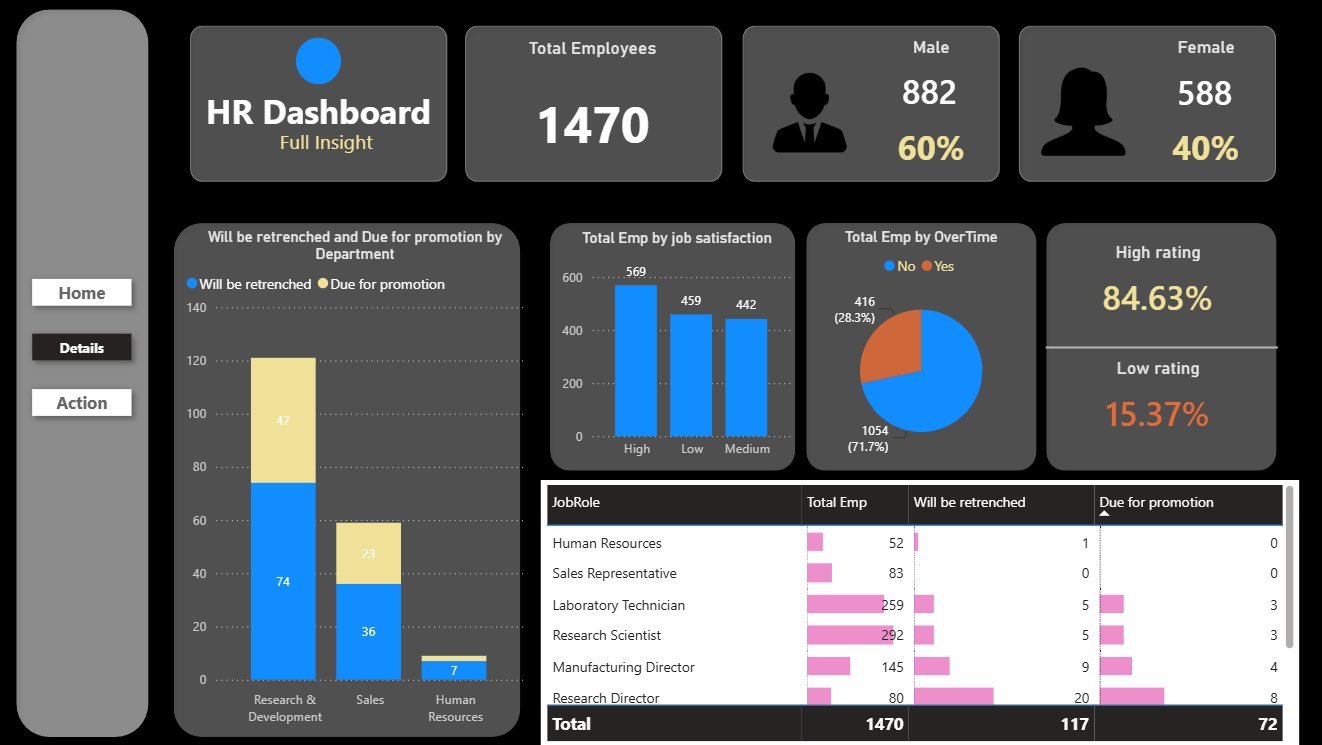

What the dashboard file says about the page in this screenshot:
{"tool":"powerbi","page":{"name":"Details","canvas":[1280,720],"ordinal":1},"visuals":[{"type":"shape","box":[9.6,0,145.5,720.4],"z":0,"group":"g1"},{"type":"shape","box":[177,15.1,266.2,168.8],"z":0},{"type":"textbox","box":[188,81,244.3,56.3],"z":1000},{"type":"shape","box":[443.2,15.1,266.2,168.8],"z":2000},{"type":"shape","box":[710.8,15.1,266.2,168.8],"z":3000},{"type":"shape","box":[977,15.1,266.2,168.8],"z":4000},{"type":"shape","box":[288.2,35.7,43.9,45.3],"z":5000},{"type":"textbox","box":[238.8,119.4,157.8,37],"z":6000},{"type":"cardVisual","title":"Total Employees","fields":{"Data":["new measures.Total Emp"]},"box":[458.4,36.2,232.8,126.7],"z":7000},{"type":"cardVisual","title":"Male","fields":{"Data":["new measures.Male"]},"box":[844.5,35,114.6,84.5],"z":8000},{"type":"cardVisual","fields":{"Data":["new measures.% Male"]},"box":[844.5,108.6,114.6,63.9],"z":9000},{"type":"image","box":[745.6,66.4,77.2,84.5],"z":10000},{"type":"cardVisual","title":"Female","fields":{"Data":["new measures.Female"]},"box":[1109.9,35,114.6,85.7],"z":11000},{"type":"image","box":[1003.8,47.1,89.3,121.9],"z":12000},{"type":"cardVisual","fields":{"Data":["new measures.% Female"]},"box":[1099.1,108.6,135.1,63.9],"z":13000},{"type":"shape","box":[161.7,206.3,352.3,513.9],"z":14000},{"type":"columnChart","fields":{"Category":["HR Analytics Data.Department"],"Y":["new measures.Will be retrenched","new measures.Due for promotion"]},"box":[177.3,219.6,336.6,487.4],"z":15000},{"type":"shape","box":[524.8,206.3,254.6,257],"z":16000},{"type":"columnChart","fields":{"Y":["new measures.Total Emp"],"Category":["HR Analytics Data.job satisfaction"]},"box":[540.5,220.8,231.6,230.4],"z":17000},{"type":"shape","box":[772.1,206.3,240.1,257],"z":18000},{"type":"pieChart","fields":{"Y":["new measures.Total Emp"],"Category":["HR Analytics Data.OverTime"]},"box":[789,219.6,206.3,230.4],"z":19000},{"type":"tableEx","fields":{"Values":["HR Analytics Data.JobRole","new measures.Total Emp","new measures.Will be retrenched","new measures.Due for promotion"]},"box":[524.8,463.3,732.3,257],"z":20000},{"type":"shape","box":[1003.8,206.3,240.1,257],"z":21000},{"type":"cardVisual","title":"High rating","fields":{"Data":["new measures.% High rated"]},"box":[1030.3,232.8,181,85.7],"z":22000},{"type":"cardVisual","title":"Low rating","fields":{"Data":["new measures.% Low rated"]},"box":[1030.3,345,181,85.7],"z":23000},{"type":"shape","box":[1012.2,313.7,224.4,43.4],"z":24000},{"type":"group","id":"g1","title":"Group 1","box":[9.6,0,145.5,720.4],"z":25000},{"type":"pageNavigator","box":[25.3,260.6,113.4,150.8],"z":26000}]}

Visuals, with their boxes in screenshot pixels (x1, y1, x2, y2), scaled from the page's 1280x720 canvas onto the 1322x745 screenshot:
shape: region(10, 0, 160, 744)
shape: region(183, 16, 458, 190)
textbox: region(194, 84, 446, 142)
shape: region(458, 16, 733, 190)
shape: region(734, 16, 1009, 190)
shape: region(1009, 16, 1284, 190)
shape: region(298, 37, 343, 84)
textbox: region(247, 124, 410, 162)
"Total Employees" cardVisual: region(473, 37, 714, 169)
"Male" cardVisual: region(872, 36, 991, 124)
cardVisual - new measures.% Male: region(872, 112, 991, 178)
image: region(770, 69, 850, 156)
"Female" cardVisual: region(1146, 36, 1265, 125)
image: region(1037, 49, 1129, 175)
cardVisual - new measures.% Female: region(1135, 112, 1275, 178)
shape: region(167, 213, 531, 744)
columnChart - HR Analytics Data.Department x new measures.Will be retrenched: region(183, 227, 531, 732)
shape: region(542, 213, 805, 479)
columnChart - new measures.Total Emp x HR Analytics Data.job satisfaction: region(558, 228, 797, 467)
shape: region(797, 213, 1045, 479)
pieChart - new measures.Total Emp x HR Analytics Data.OverTime: region(815, 227, 1028, 466)
tableEx - HR Analytics Data.JobRole x new measures.Total Emp: region(542, 479, 1298, 744)
shape: region(1037, 213, 1285, 479)
"High rating" cardVisual: region(1064, 241, 1251, 330)
"Low rating" cardVisual: region(1064, 357, 1251, 446)
shape: region(1045, 325, 1277, 369)
"Group 1" group: region(10, 0, 160, 744)
pageNavigator: region(26, 270, 143, 426)
